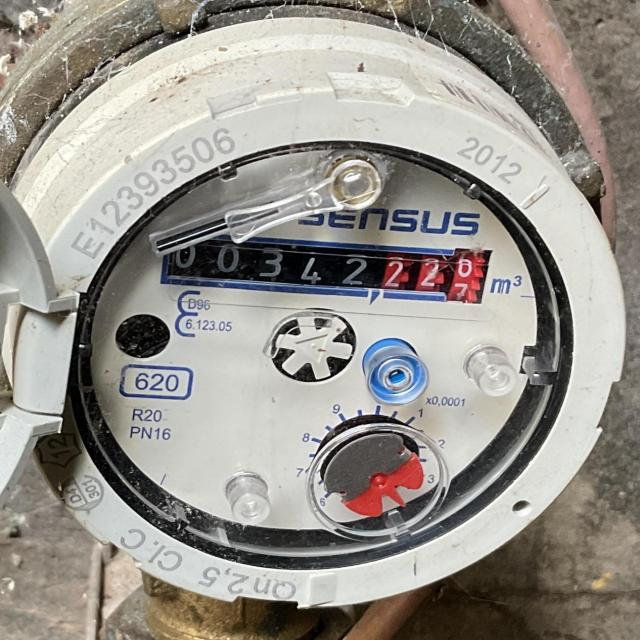gaz_meter: (82, 145, 538, 533)
indication: (160, 230, 493, 307)
